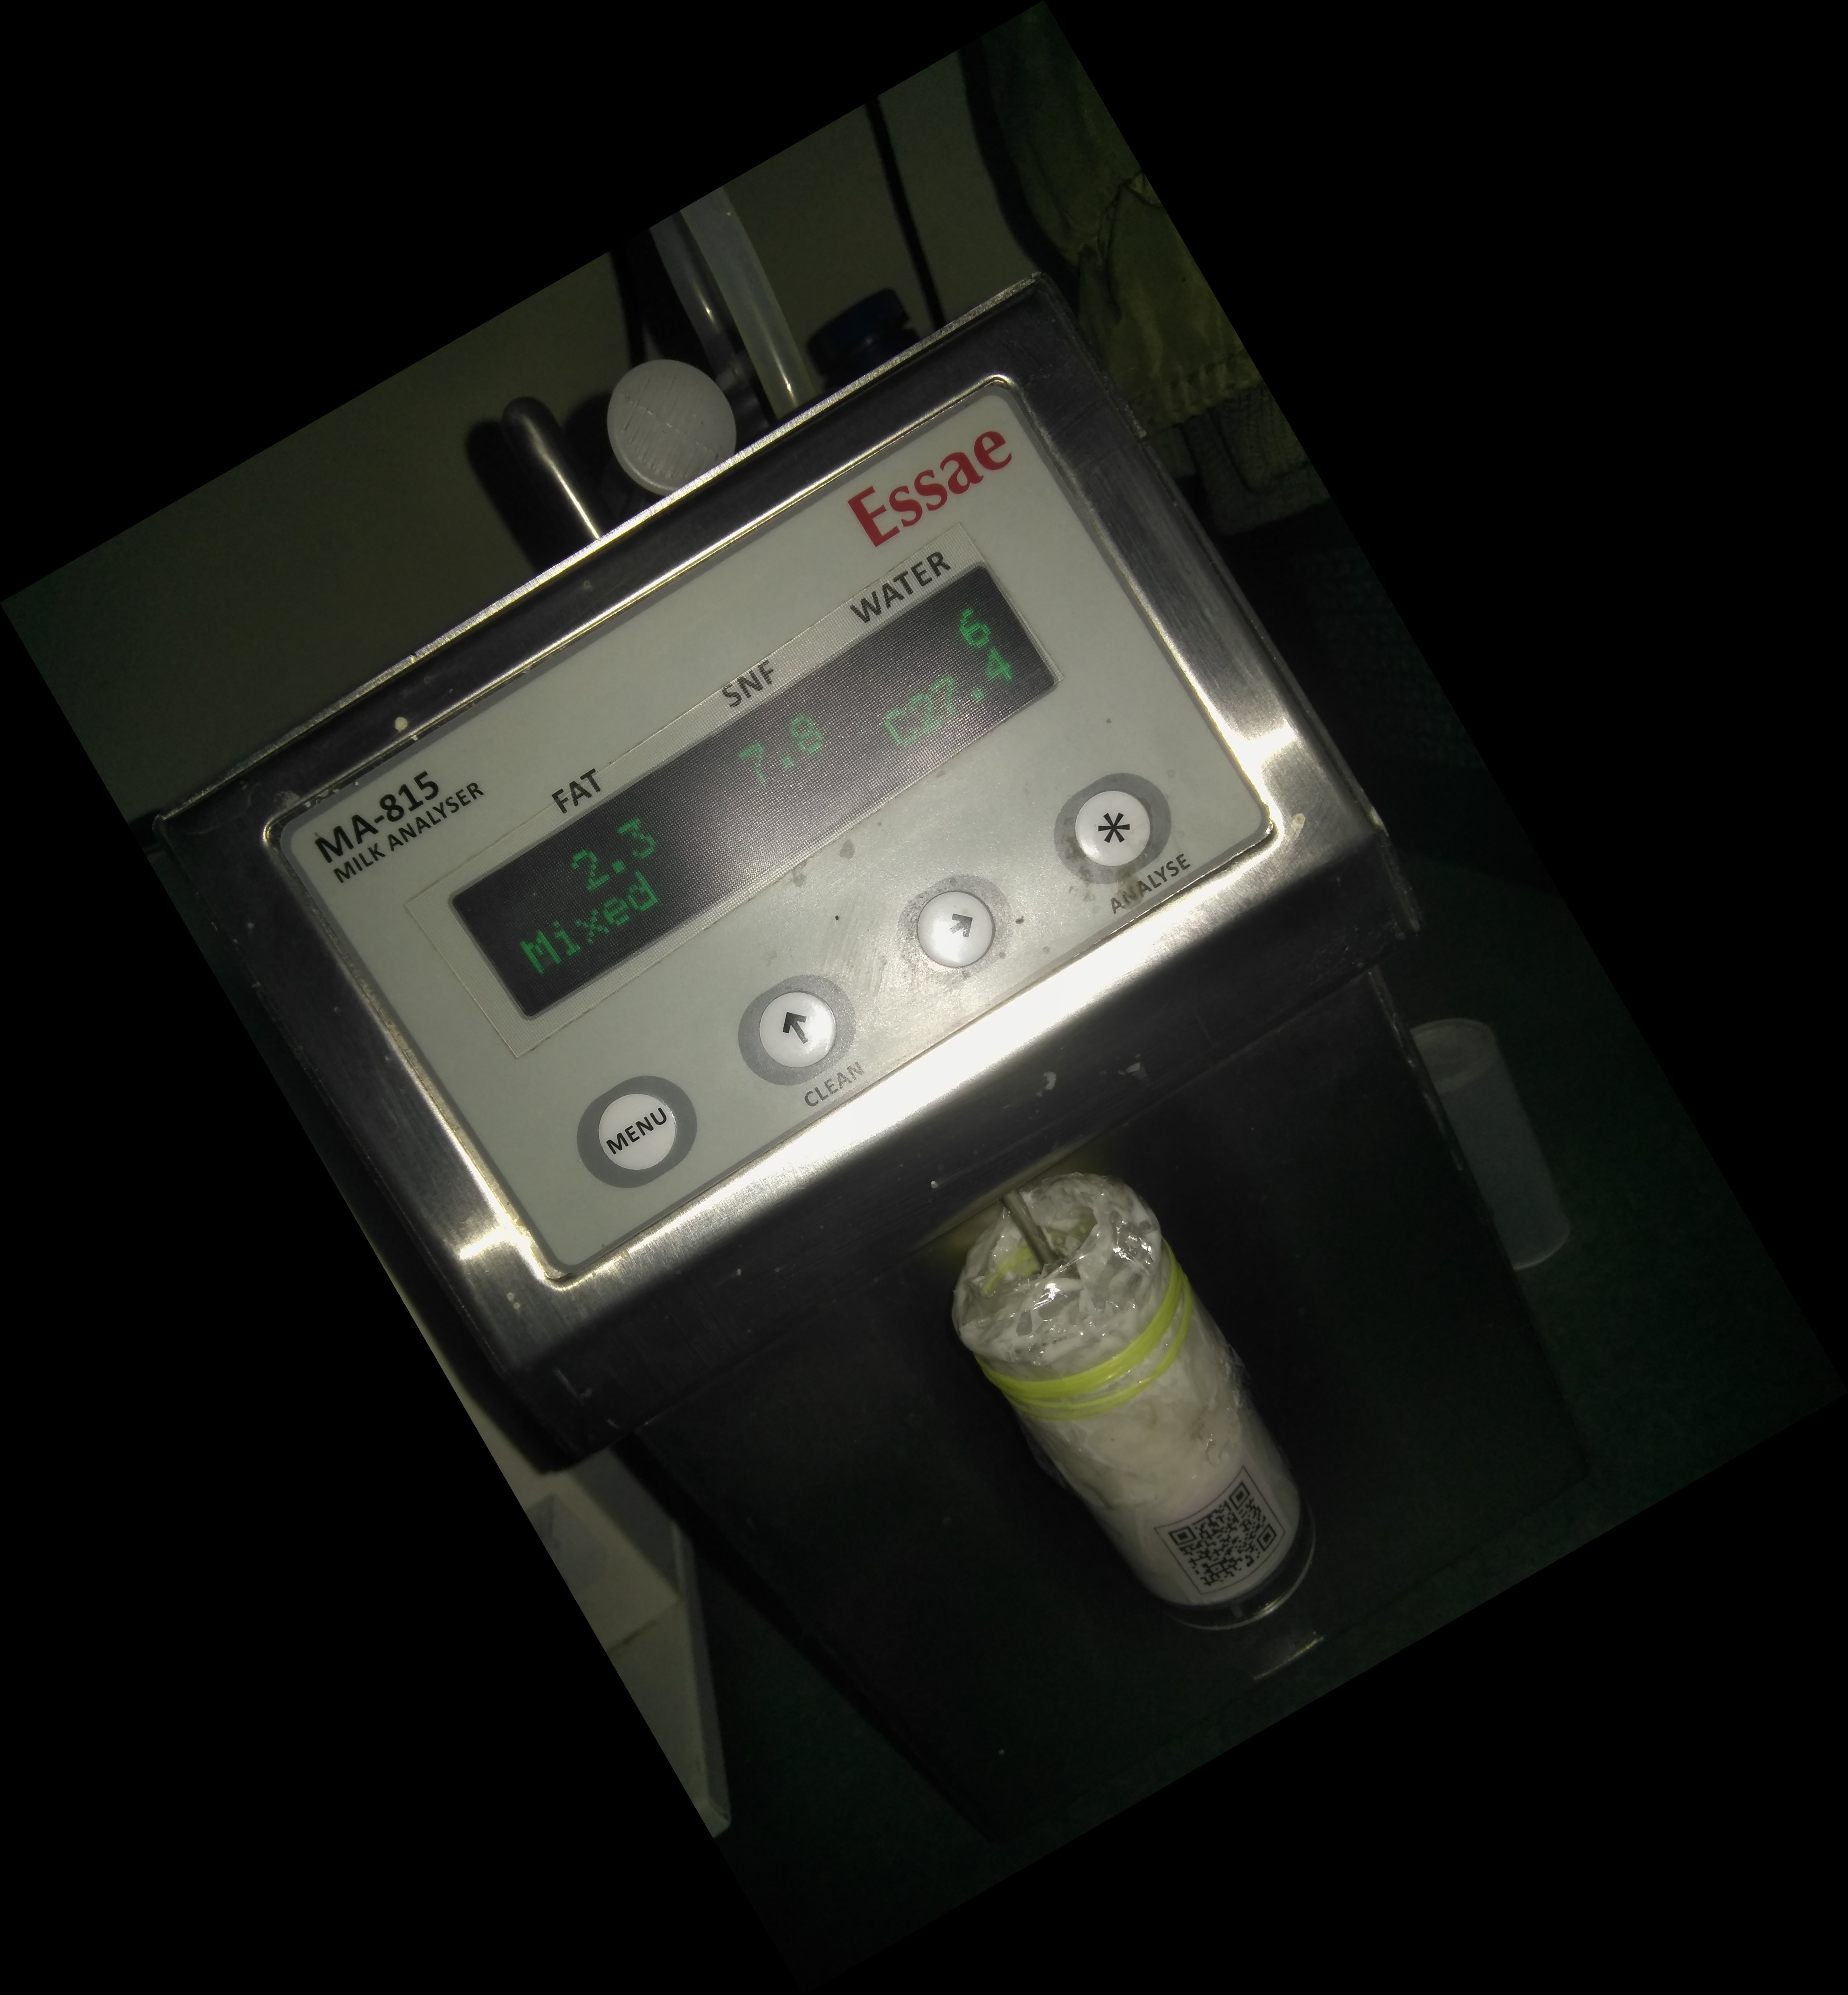lcd: (442, 540, 1073, 1039)
qr: (1147, 1451, 1292, 1613)
